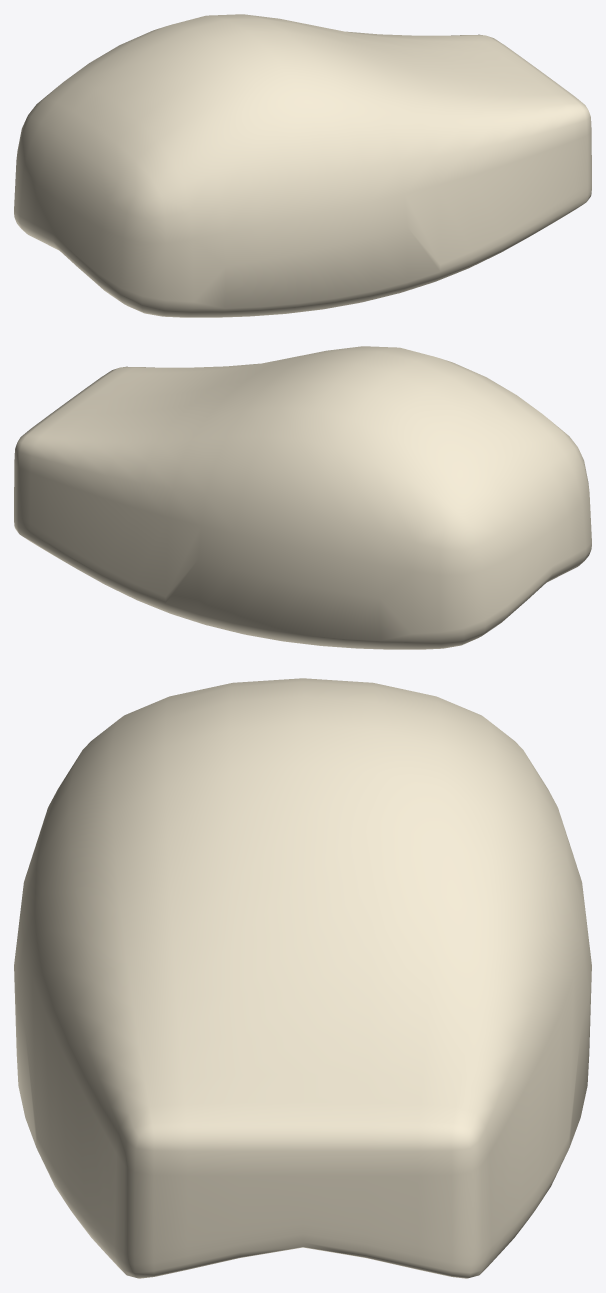
File: cowrie_b2.glb
3 views of the same model, one above another, from view 1: azimuth 30°, elevation 25°; view 2: azimuth 150°, elevation 25°; view 3: azimuth 270°, elevation 25° (orthographic). The views are drawn at different scales.
Parts seen in each view (by area): view 1: cowrie_b2; view 2: cowrie_b2; view 3: cowrie_b2.
Boxes of the visible parts, bbox=[...] form: cowrie_b2: bbox=[14, 14, 591, 317]; cowrie_b2: bbox=[14, 346, 591, 649]; cowrie_b2: bbox=[14, 678, 591, 1278].
Bounding box in the file's own units: 0.024 × 0.0107 × 0.015.
